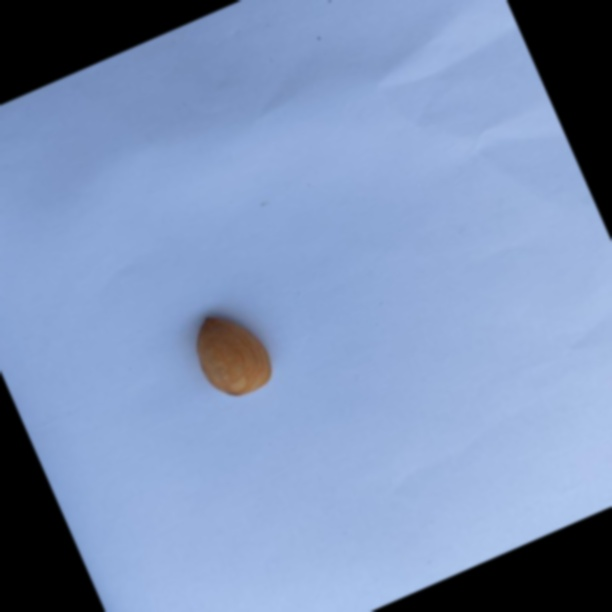grade2: (180, 296, 287, 411)
